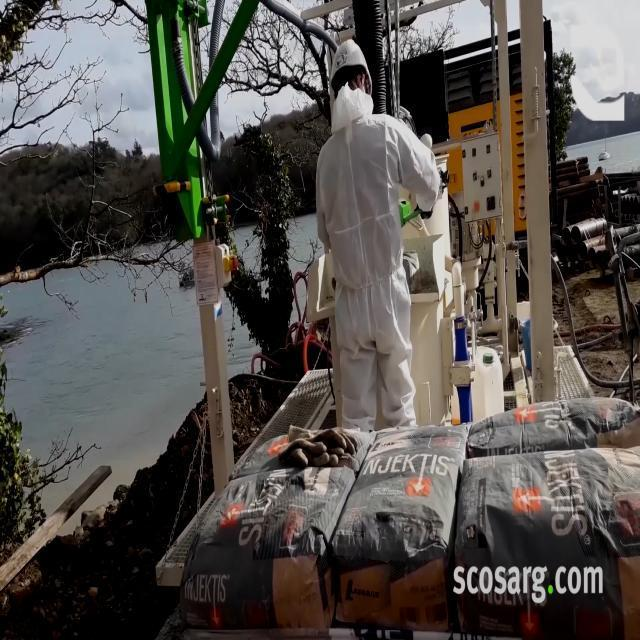gunny_bag: (454, 446, 640, 639), (180, 464, 355, 630), (333, 425, 468, 632), (468, 397, 640, 457)
